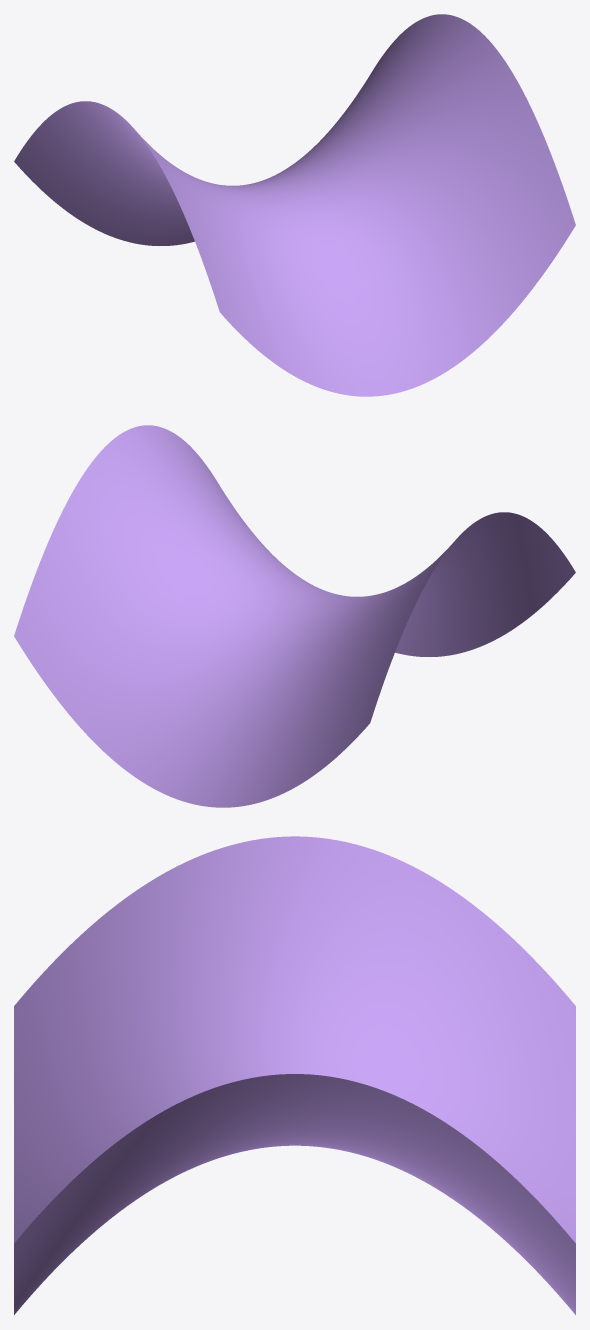
The model's file is saddle.glb.
3 views of the same model, one above another, from view 1: azimuth 30°, elevation 25°; view 2: azimuth 150°, elevation 25°; view 3: azimuth 270°, elevation 25° (orthographic). The views are drawn at different scales.
Bounding box in the file's own units: 0.6 × 0.3999 × 0.6.
